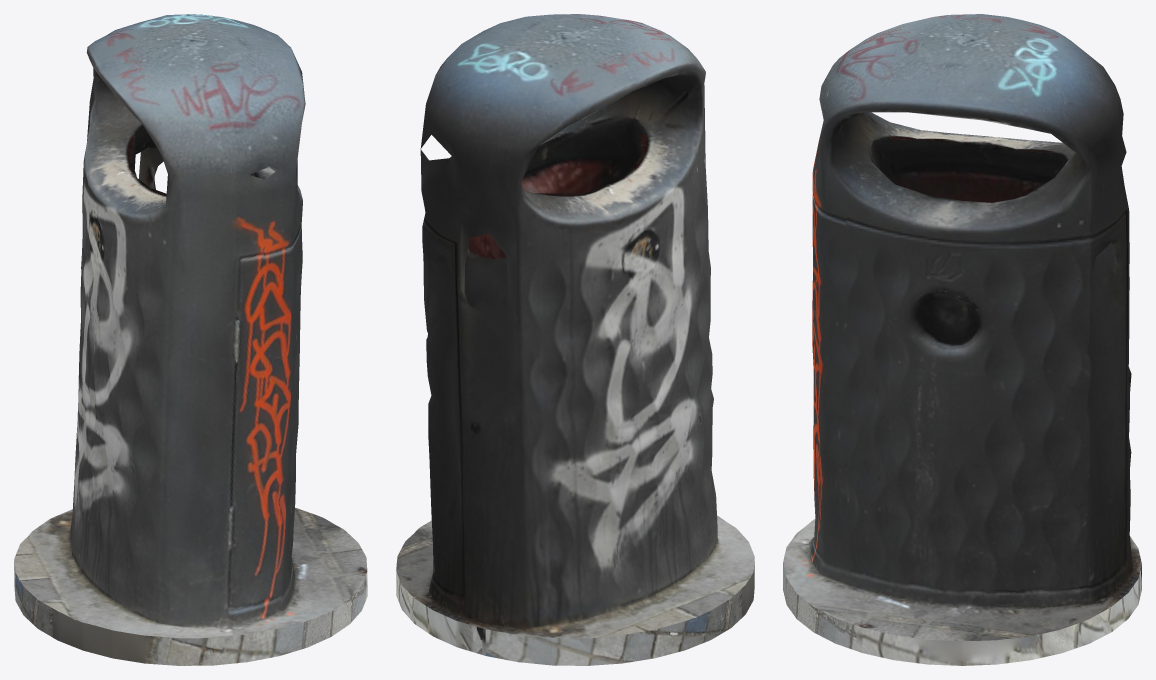
File: trash_can.glb
3 views of the same model, side by side, from view 1: azimuth 30°, elevation 25°; view 2: azimuth 150°, elevation 25°; view 3: azimuth 270°, elevation 25° (orthographic).
Visible parts, largest first — view 1: 3DModel_LowPoly_2; view 2: 3DModel_LowPoly_2; view 3: 3DModel_LowPoly_2.
Part boxes in pixels (bbox=[...]): 3DModel_LowPoly_2: bbox=[14, 14, 367, 665]; 3DModel_LowPoly_2: bbox=[396, 14, 754, 665]; 3DModel_LowPoly_2: bbox=[783, 14, 1141, 665].
Bounding box in the file's own units: 2.39 × 4.06 × 2.39.
1 material, 1 textured.
